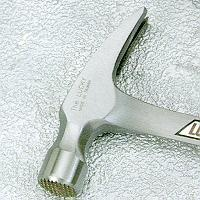hammer: (38, 6, 199, 200)
